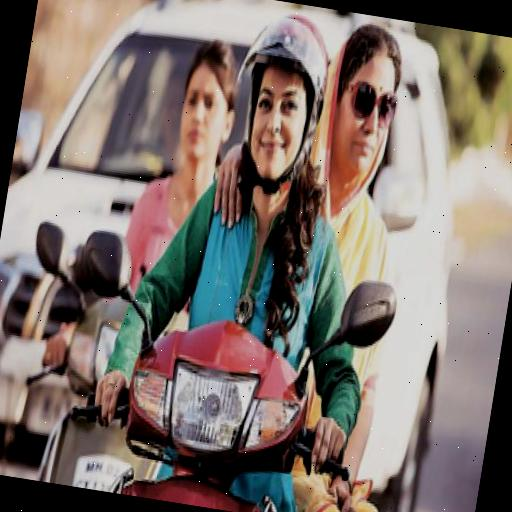helmet: (94, 0, 399, 487)
